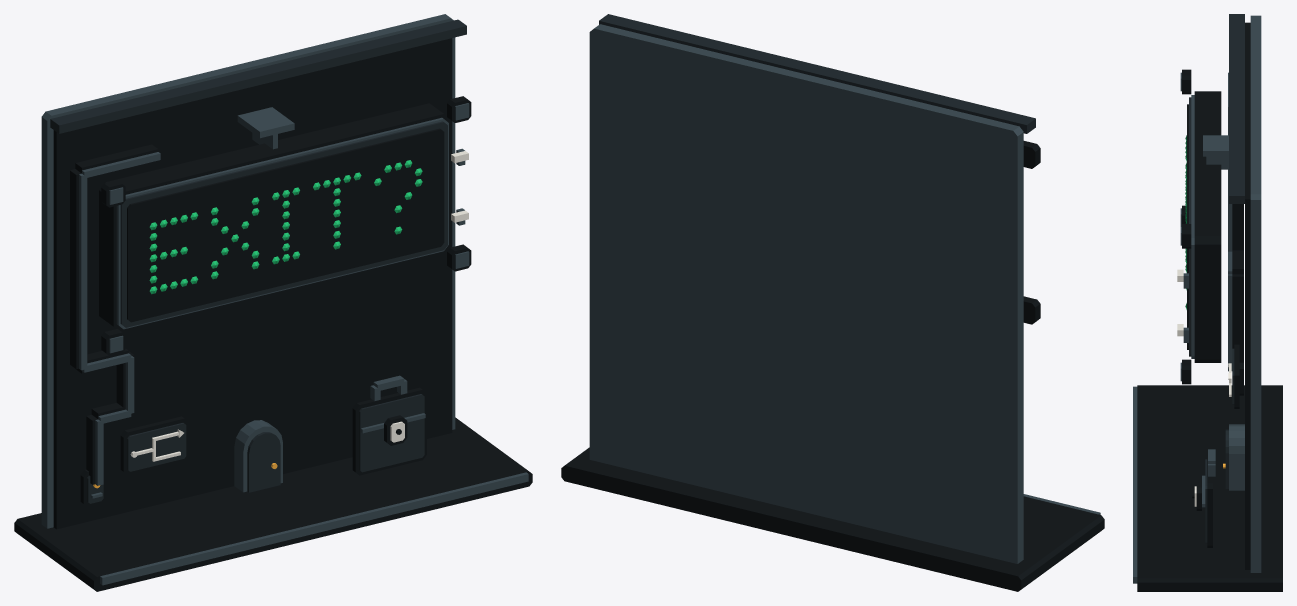
3 renders of one model, left to right at view 1: azimuth 30°, elevation 25°; view 2: azimuth 150°, elevation 25°; view 3: azimuth 270°, elevation 25°, orthographic. The views are drawn at different scales.
Parts seen in each view (by area): view 1: Exit Liquidity sign; view 2: Exit Liquidity sign; view 3: Exit Liquidity sign.
Boxes of the visible parts, x1,y1,x2,y2 form: Exit Liquidity sign: (14,14,532,591); Exit Liquidity sign: (561,14,1104,591); Exit Liquidity sign: (1133,14,1282,591).
Size of the model in its own units: 1.08 by 1 by 0.3475.
